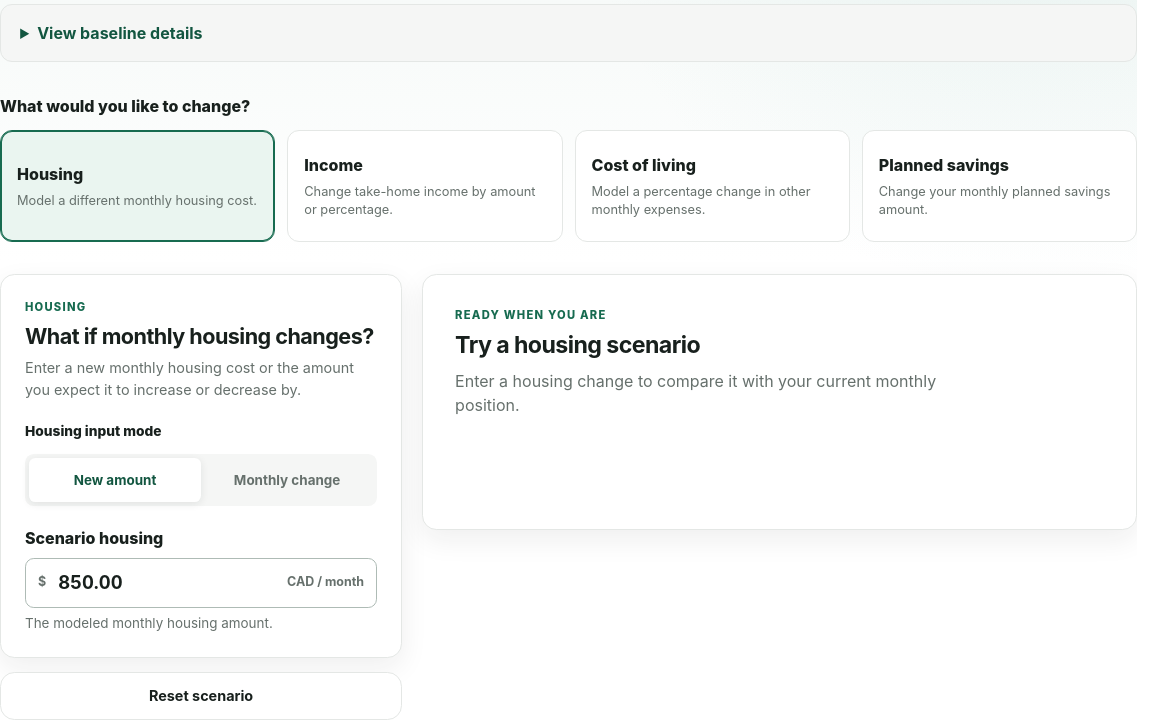
ScenarioLab › shows an empty state until a change is entered, then reproduces the housing reference case
(page scrolled)
Check: the heading "Try a housing scenario" is shown, box [455,331,700,359]
Step 1. Replace the text in the field labelled "Scenario housing" with "1050" → x=167, y=583, box [58,559,275,607]
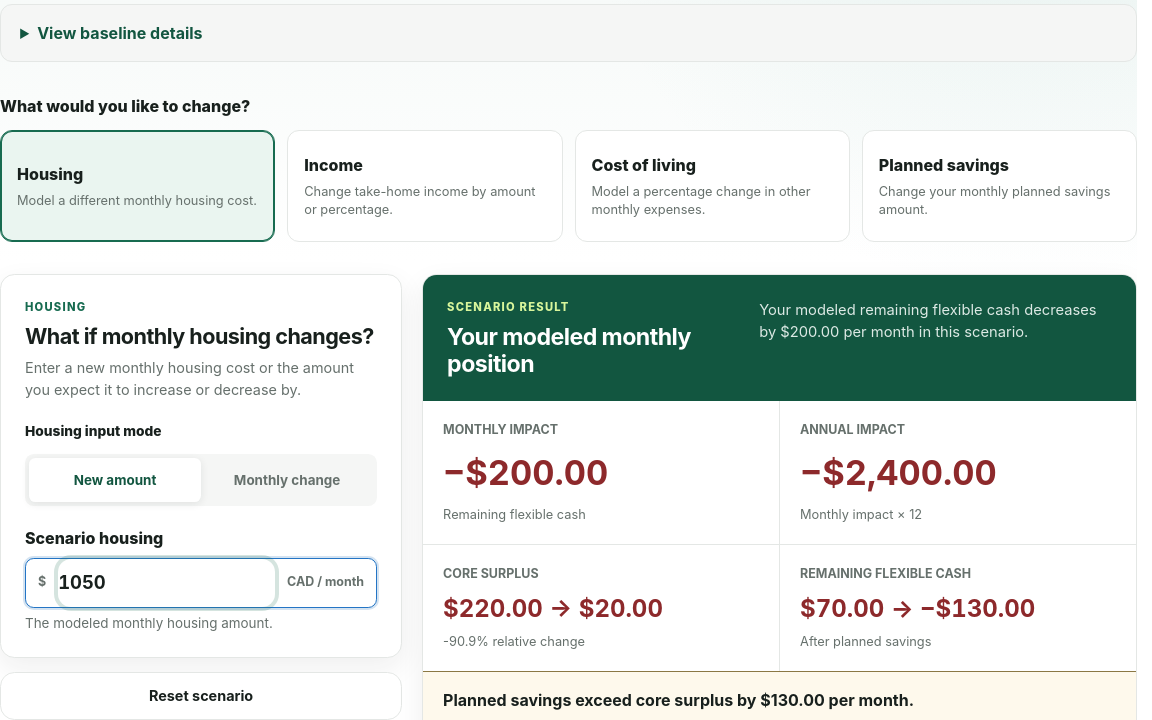
Check: the text "-90.9% relative change" is shown, box [443,634,585,649]
Check: the text "remaining flexible cash decreases by $200.00 per month" is shown, box [759,300,1097,341]
